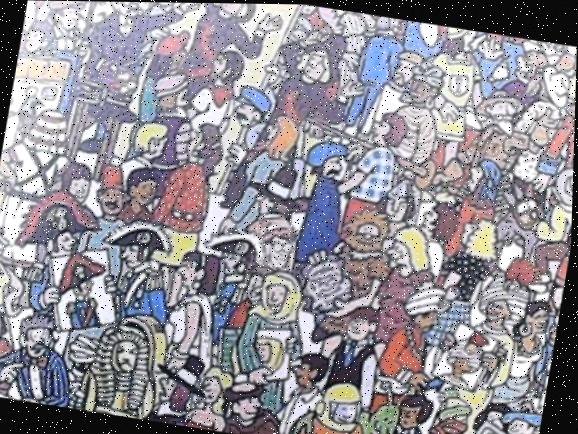waldo: (251, 216, 301, 270)
